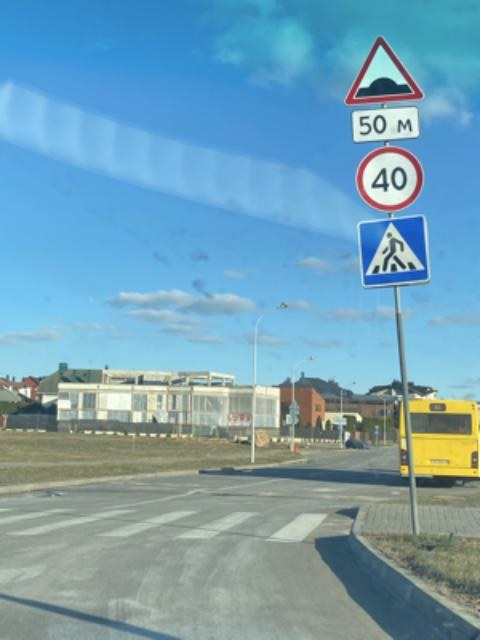crosswalk-sign: (357, 214, 432, 289)
